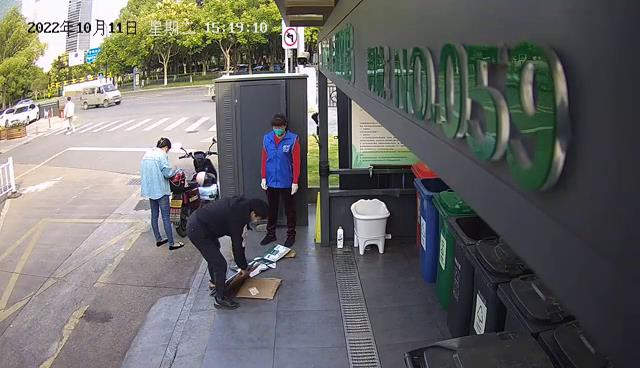person: (183, 197, 270, 311)
worker: (259, 112, 301, 248), (139, 136, 185, 251)
zhizhipin: (237, 243, 295, 278), (211, 274, 285, 299)
